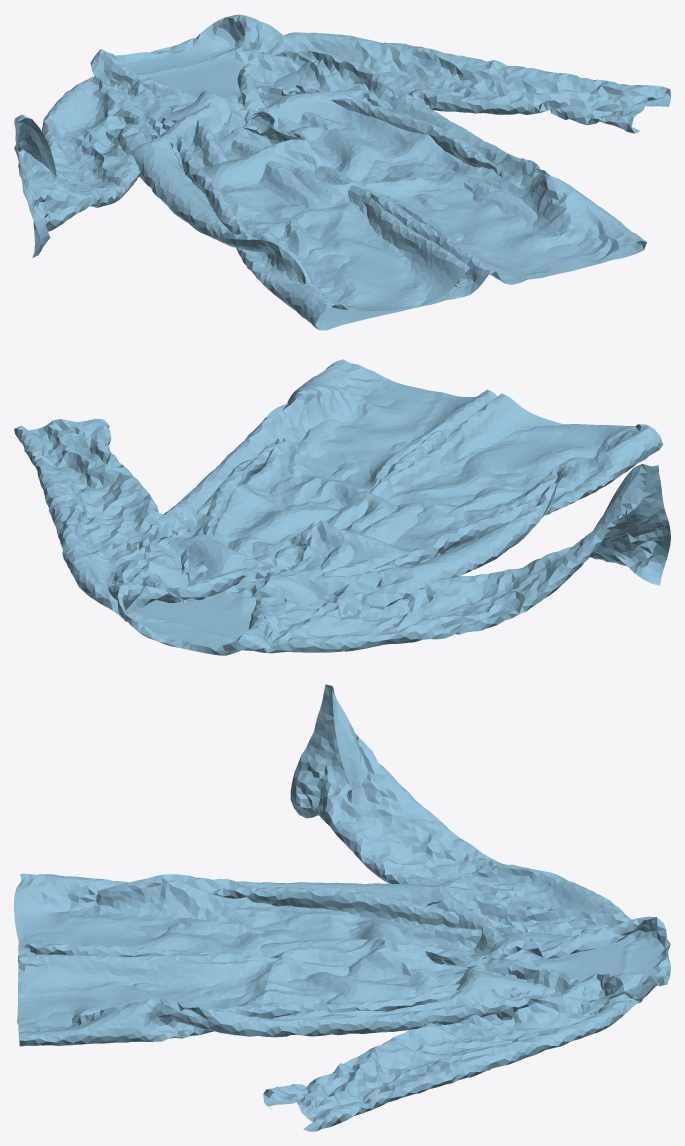
The model's file is frame_03.glb.
3 renders of one model, top to bottom at view 1: azimuth 30°, elevation 25°; view 2: azimuth 150°, elevation 25°; view 3: azimuth 270°, elevation 25°, orthographic.
Parts seen in each view (by area): view 1: frame_03.obj; view 2: frame_03.obj; view 3: frame_03.obj.
Part boxes in pixels (x1=…): frame_03.obj: x1=14, y1=14, x2=670, y2=330; frame_03.obj: x1=14, y1=359, x2=670, y2=655; frame_03.obj: x1=14, y1=684, x2=670, y2=1131.
Bounding box in the file's own units: 1.92 × 0.3869 × 1.68.
